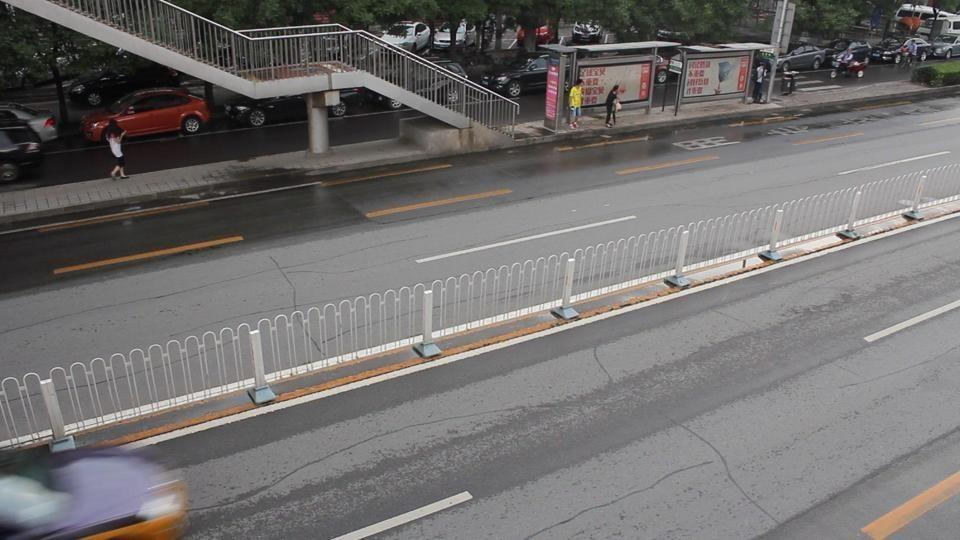car: (1, 439, 193, 539), (78, 88, 213, 143), (73, 72, 189, 110), (481, 56, 555, 98), (0, 124, 43, 184), (0, 103, 58, 144), (774, 45, 836, 72), (382, 21, 432, 53), (834, 47, 869, 76), (895, 37, 935, 62), (924, 39, 960, 61), (870, 43, 902, 63), (844, 43, 873, 63)
